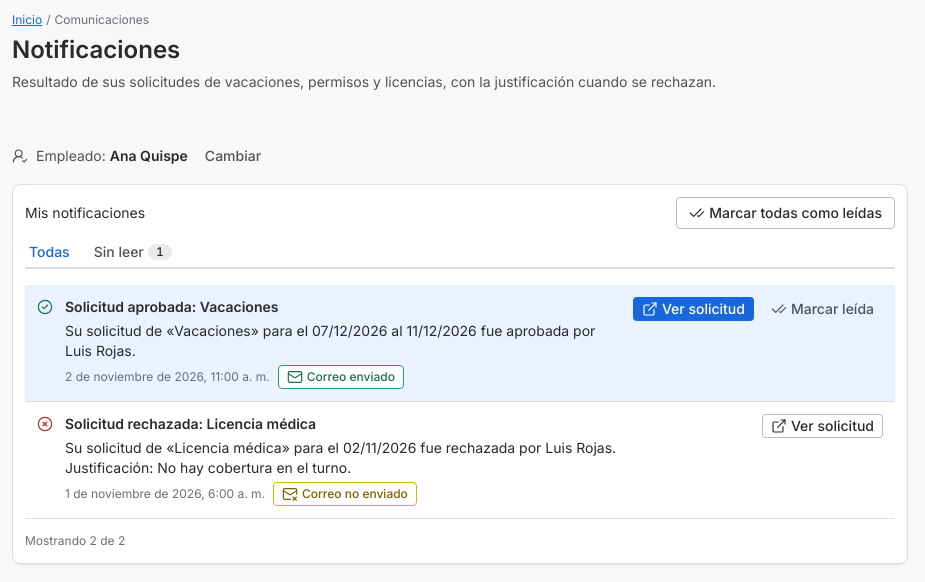
Test: Vista de notificaciones › «Marcar todas como leídas» las marca en el servidor y se deshabilita
The width and height of the screenshot is (925, 582).
Click the button "Marcar todas como leídas": (786, 213) [676, 197, 895, 229]
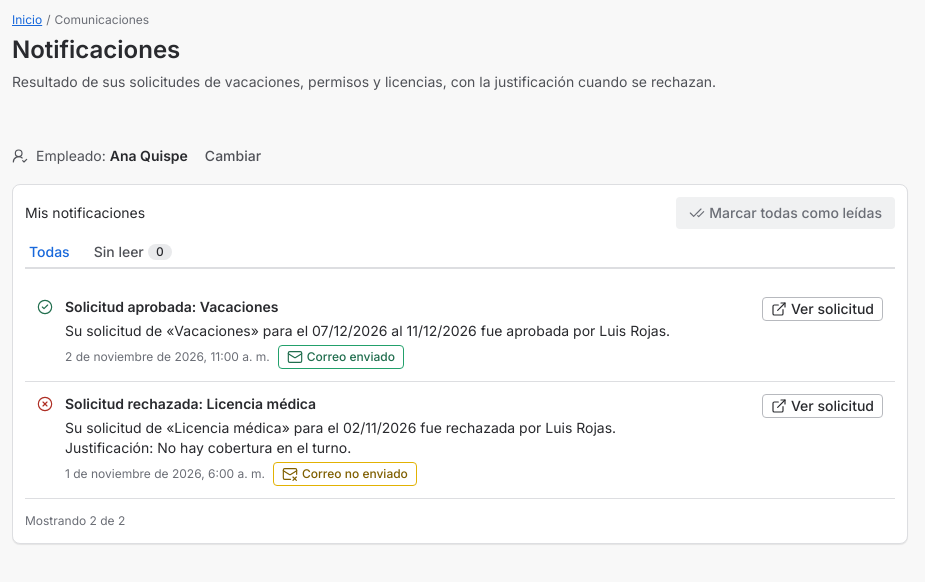
expect the button "Marcar todas como leídas" is disabled: met, box [676, 197, 895, 229]
